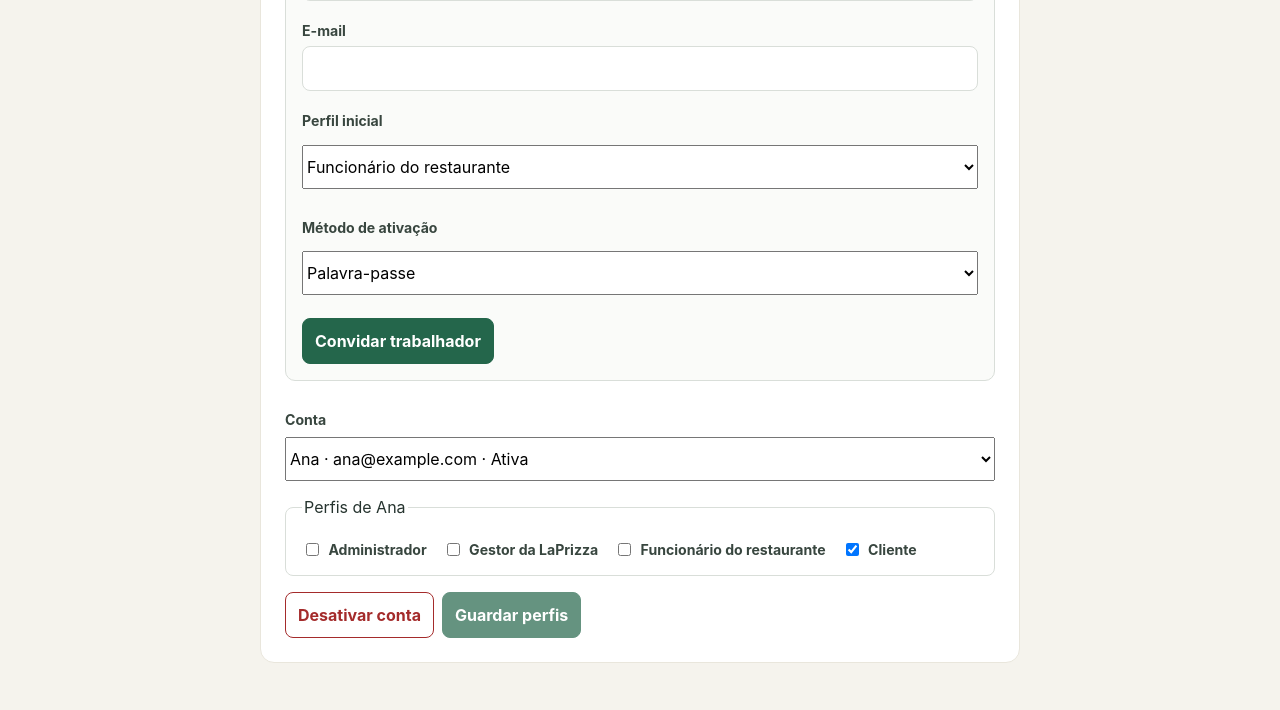
preserves the role draft and blocks changes until current data is reviewed after an unknown update
(page scrolled)
Click the checkbox labelled "Gestor da LaPrizza": (453, 550) x1=447 y1=544 x2=460 y2=556
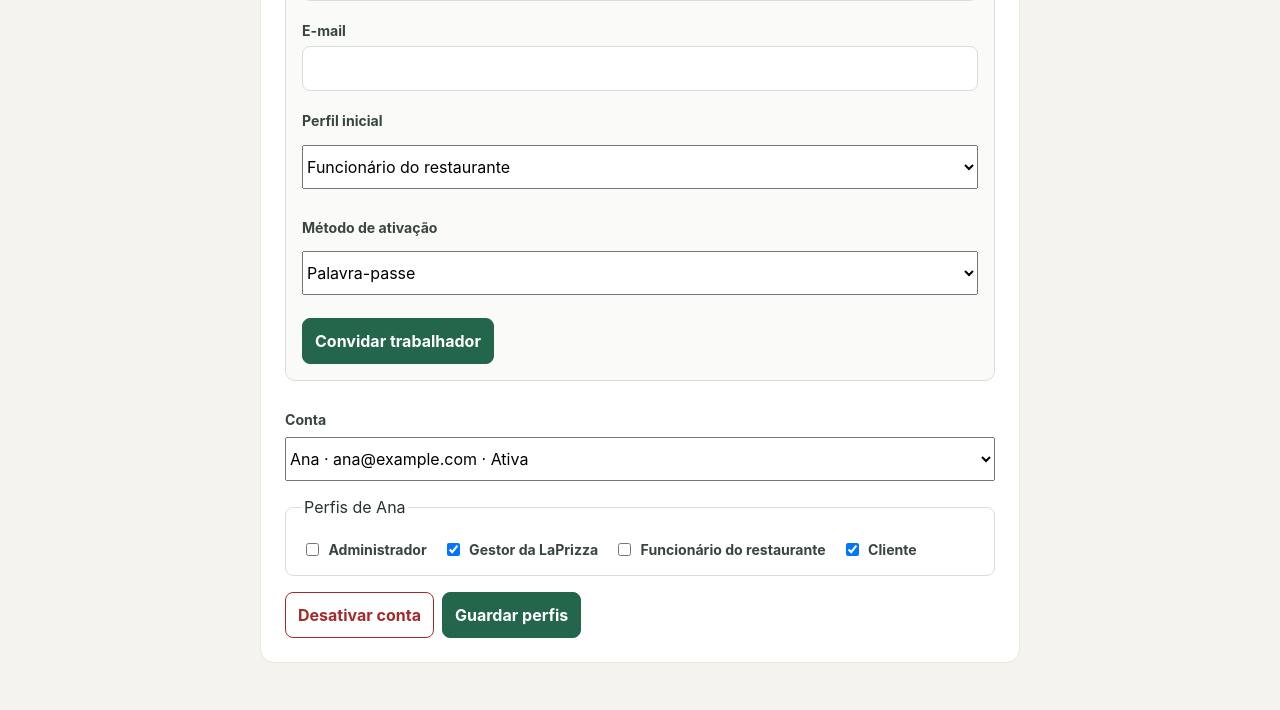
Click the button "Guardar perfis": (512, 616) x1=442 y1=592 x2=581 y2=638
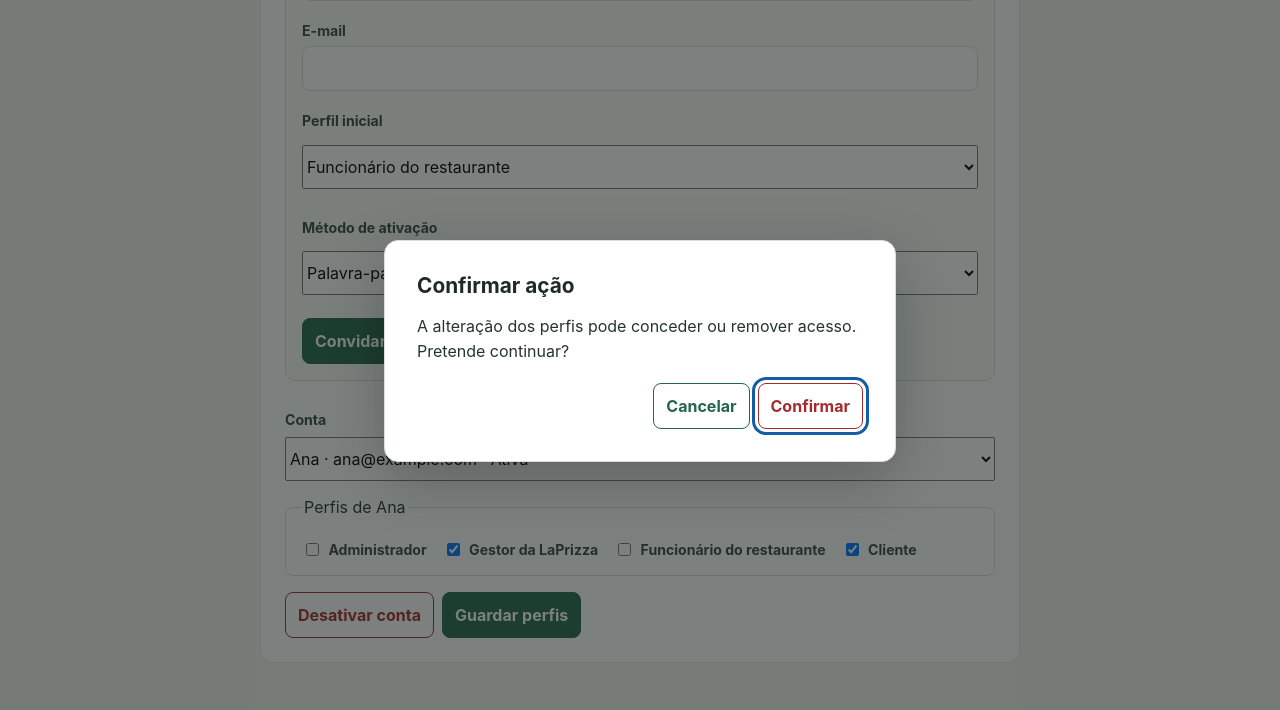
Click the button with class "button--danger" showing "Confirmar": (810, 406) x1=758 y1=383 x2=863 y2=429
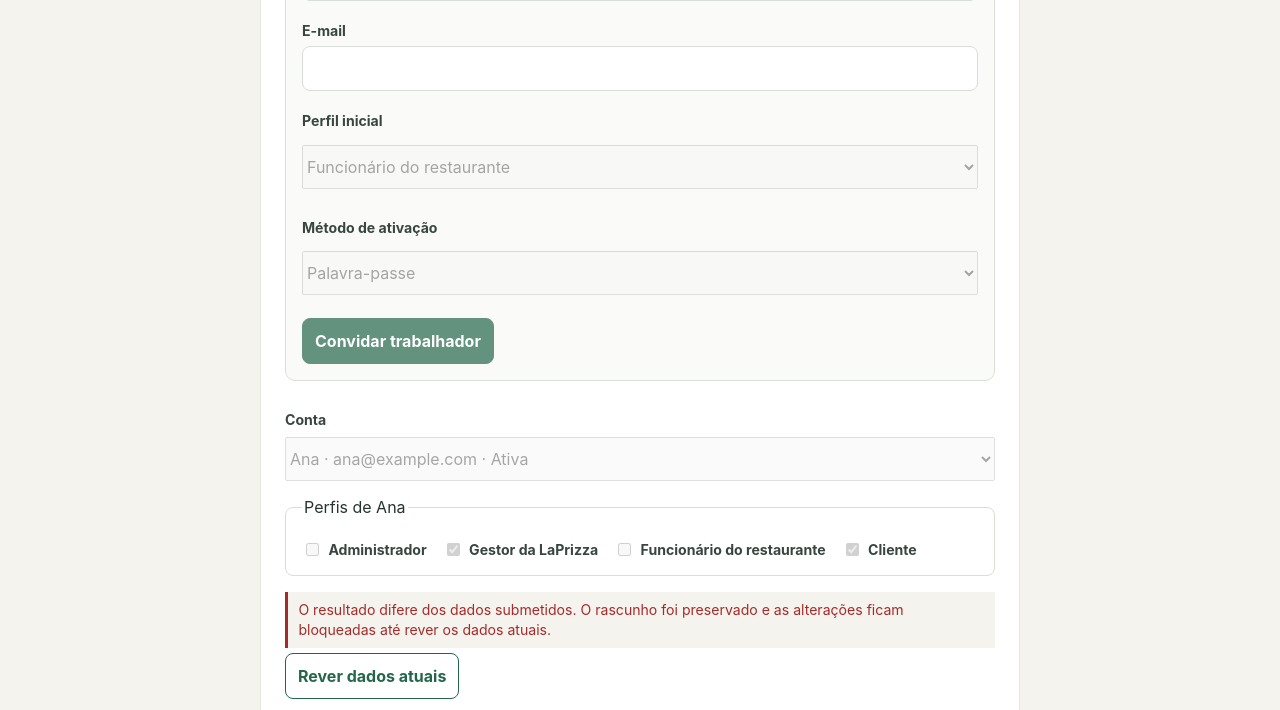
Result: the checkbox labelled "Gestor da LaPrizza" is checked at x1=447 y1=544 x2=460 y2=556
Result: the text "O resultado difere dos dados submetidos." is shown at x1=298 y1=601 x2=904 y2=638
Result: the element that starts with "Perfis de Ana" is disabled at x1=285 y1=497 x2=995 y2=576
Click the button "Rever dados atuais": (372, 676) x1=285 y1=653 x2=459 y2=699
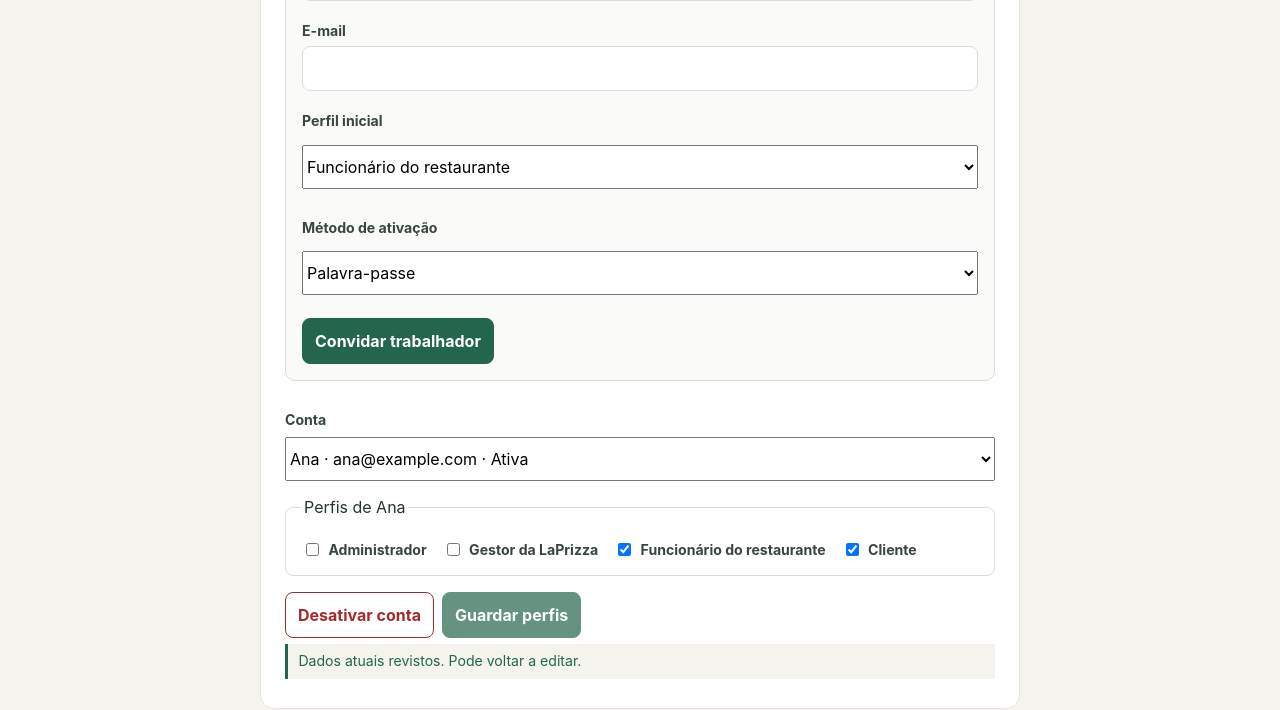
Result: the checkbox labelled "Gestor da LaPrizza" is not checked at x1=447 y1=544 x2=460 y2=556
Result: the checkbox labelled "Funcionário do restaurante" is checked at x1=618 y1=544 x2=631 y2=556
Result: the element that starts with "Perfis de Ana" is enabled at x1=285 y1=497 x2=995 y2=576
